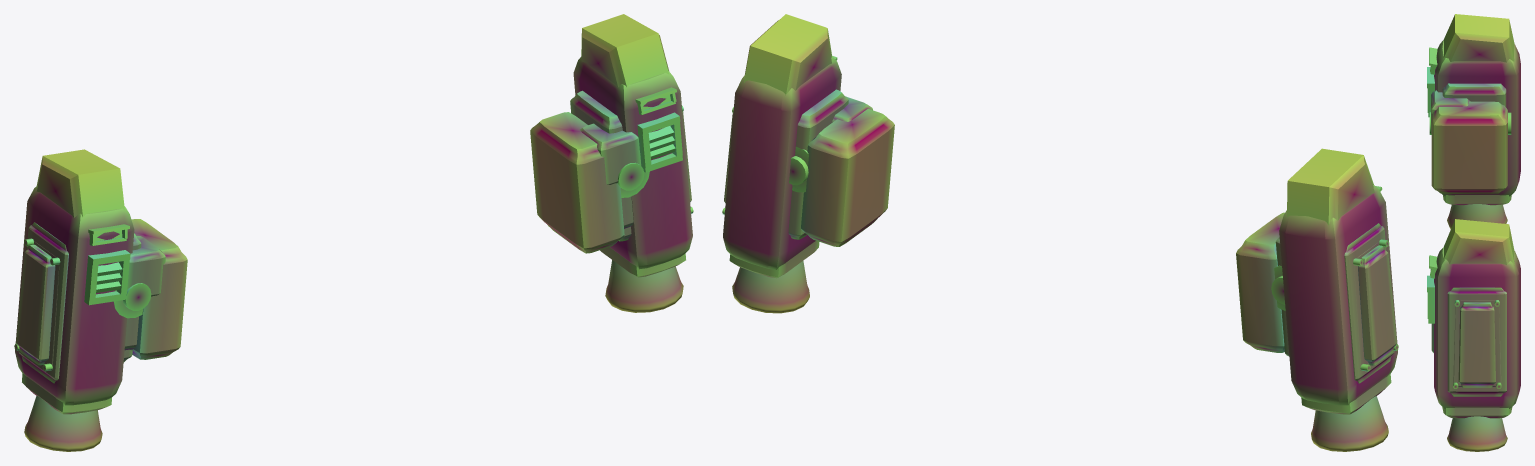
The model's file is llm_gen_leg_thrusters_077_0c3412.glb.
3 renders of one model, left to right at view 1: azimuth 30°, elevation 25°; view 2: azimuth 150°, elevation 25°; view 3: azimuth 270°, elevation 25°, orthographic. The views are drawn at different scales.
Parts seen in each view (by area): view 1: calf_thruster_hull_1_titanium_silver_l, adapter_calf_clamp_r, calf_thruster_hull_1_titanium_silver_r, adapter_calf_clamp_l, nacelle_upper_cowl_2_era_block_r, nacelle_upper_cowl_2_era_block_l, nacelle_flank_armor_6_era_block_l, calf_main_bell_8_vernier_bell_vernier_l, calf_main_bell_8_vernier_bell_vernier_r, adapter_sub_flank_frame_dark_5_adapter_dark_l, adapter_leg_knee_mount_dark_9_adapter_dark_r, adapter_leg_knee_mount_dark_9_adapter_dark_l (+7 smaller); view 2: calf_thruster_hull_1_titanium_silver_l, calf_thruster_hull_1_titanium_silver_r, adapter_calf_clamp_r, adapter_calf_clamp_l, nacelle_upper_cowl_2_era_block_r, nacelle_upper_cowl_2_era_block_l, nacelle_flank_armor_6_era_block_l, calf_main_bell_8_vernier_bell_vernier_l, calf_main_bell_8_vernier_bell_vernier_r, adapter_sub_tank_cradle_dark_0_adapter_dark_r, adapter_sub_flank_frame_dark_5_adapter_dark_l, adapter_sub_nozzle_shroud_dark_7_adapter_dark_l (+1 smaller); view 3: adapter_calf_clamp_l, calf_thruster_hull_1_titanium_silver_r, nacelle_flank_armor_6_era_block_r, calf_thruster_hull_1_titanium_silver_l, nacelle_upper_cowl_2_era_block_l, nacelle_upper_cowl_2_era_block_r, adapter_sub_flank_frame_dark_5_adapter_dark_r, calf_main_bell_8_vernier_bell_vernier_r, adapter_sub_tank_cradle_dark_0_adapter_dark_l, calf_main_bell_8_vernier_bell_vernier_l, adapter_sub_nozzle_shroud_dark_7_adapter_dark_r, adapter_sub_nozzle_shroud_dark_7_adapter_dark_l (+6 smaller).
Part boxes in pixels (left/top/right/bottom): calf_thruster_hull_1_titanium_silver_l: left=15, top=185, right=134, bottom=405; adapter_calf_clamp_r: left=530, top=112, right=649, bottom=253; calf_thruster_hull_1_titanium_silver_r: left=573, top=56, right=692, bottom=269; adapter_calf_clamp_l: left=114, top=219, right=187, bottom=359; nacelle_upper_cowl_2_era_block_r: left=581, top=14, right=669, bottom=87; nacelle_upper_cowl_2_era_block_l: left=36, top=149, right=124, bottom=217; nacelle_flank_armor_6_era_block_l: left=14, top=238, right=60, bottom=371; calf_main_bell_8_vernier_bell_vernier_l: left=24, top=396, right=102, bottom=451; calf_main_bell_8_vernier_bell_vernier_r: left=605, top=260, right=683, bottom=312; adapter_sub_flank_frame_dark_5_adapter_dark_l: left=18, top=222, right=68, bottom=383; adapter_leg_knee_mount_dark_9_adapter_dark_r: left=580, top=123, right=640, bottom=184; adapter_leg_knee_mount_dark_9_adapter_dark_l: left=127, top=236, right=165, bottom=296; calf_thruster_hull_1_titanium_silver_l: left=1279, top=185, right=1397, bottom=405; calf_thruster_hull_1_titanium_silver_r: left=723, top=56, right=841, bottom=269; adapter_calf_clamp_r: left=792, top=109, right=894, bottom=246; adapter_calf_clamp_l: left=1236, top=212, right=1285, bottom=352; nacelle_upper_cowl_2_era_block_r: left=744, top=14, right=831, bottom=95; nacelle_upper_cowl_2_era_block_l: left=1287, top=148, right=1374, bottom=225; nacelle_flank_armor_6_era_block_l: left=1353, top=239, right=1398, bottom=371; calf_main_bell_8_vernier_bell_vernier_l: left=1311, top=396, right=1388, bottom=451; calf_main_bell_8_vernier_bell_vernier_r: left=732, top=261, right=809, bottom=313; adapter_sub_tank_cradle_dark_0_adapter_dark_r: left=788, top=89, right=848, bottom=239; adapter_sub_flank_frame_dark_5_adapter_dark_l: left=1344, top=223, right=1394, bottom=383; adapter_sub_nozzle_shroud_dark_7_adapter_dark_l: left=1301, top=373, right=1391, bottom=414; adapter_calf_clamp_l: left=1431, top=101, right=1507, bottom=193; calf_thruster_hull_1_titanium_silver_r: left=1434, top=247, right=1520, bottom=408; nacelle_flank_armor_6_era_block_r: left=1453, top=300, right=1501, bottom=388; calf_thruster_hull_1_titanium_silver_l: left=1434, top=40, right=1520, bottom=196; nacelle_upper_cowl_2_era_block_l: left=1443, top=14, right=1514, bottom=62; nacelle_upper_cowl_2_era_block_r: left=1443, top=219, right=1514, bottom=264; adapter_sub_flank_frame_dark_5_adapter_dark_r: left=1447, top=287, right=1506, bottom=396; calf_main_bell_8_vernier_bell_vernier_r: left=1447, top=416, right=1507, bottom=451; adapter_sub_tank_cradle_dark_0_adapter_dark_l: left=1442, top=83, right=1506, bottom=107; calf_main_bell_8_vernier_bell_vernier_l: left=1447, top=204, right=1507, bottom=229; adapter_sub_nozzle_shroud_dark_7_adapter_dark_r: left=1442, top=407, right=1512, bottom=418; adapter_sub_nozzle_shroud_dark_7_adapter_dark_l: left=1443, top=195, right=1511, bottom=205.
Bounding box in the file's own units: 83.82 × 33.77 × 13.51.
